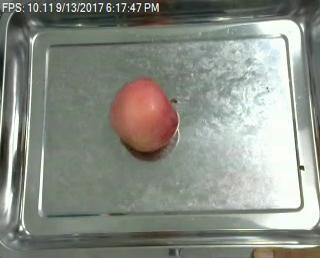apple: (107, 78, 179, 156)
